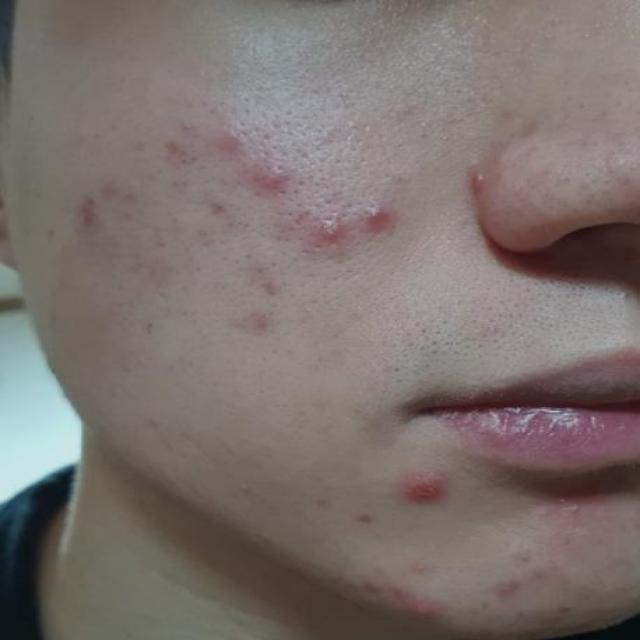papule: (386, 463, 456, 539), (200, 120, 257, 173), (253, 147, 300, 199), (362, 197, 411, 244)
pustule: (295, 204, 359, 264)
